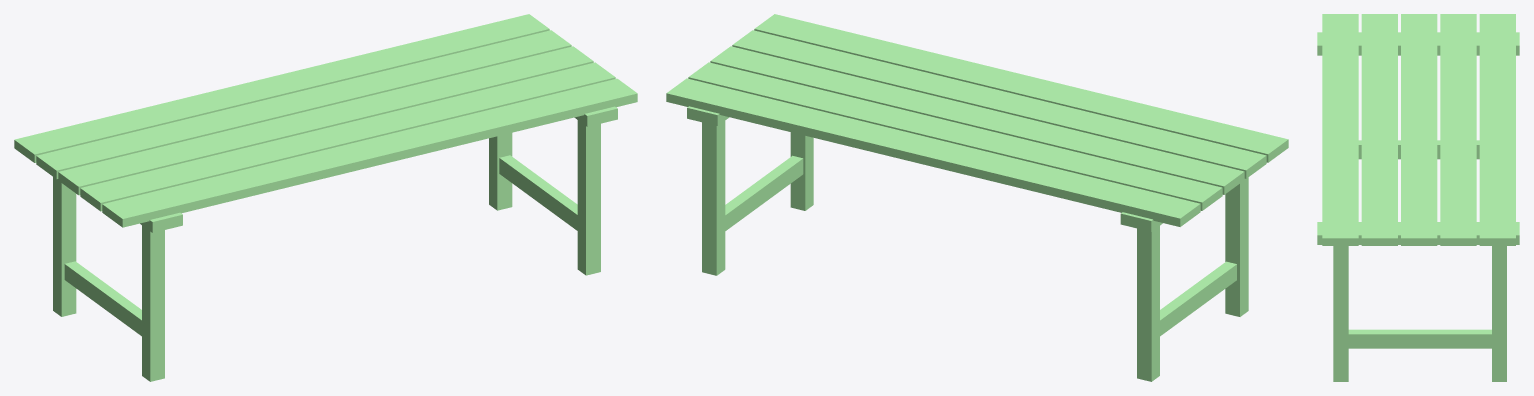
Rendered from Small table.FBX.
3 views of the same model, side by side, from view 1: azimuth 30°, elevation 25°; view 2: azimuth 150°, elevation 25°; view 3: azimuth 270°, elevation 25° (orthographic). The views are drawn at different scales.
Parts seen in each view (by area): view 1: Small table; view 2: Small table; view 3: Small table.
Part boxes in pixels (left/top/right/bottom): Small table: left=14, top=14, right=637, bottom=381; Small table: left=666, top=14, right=1288, bottom=381; Small table: left=1317, top=14, right=1519, bottom=381.
Bounding box in the file's own units: 2.38 × 0.7763 × 0.9076.
